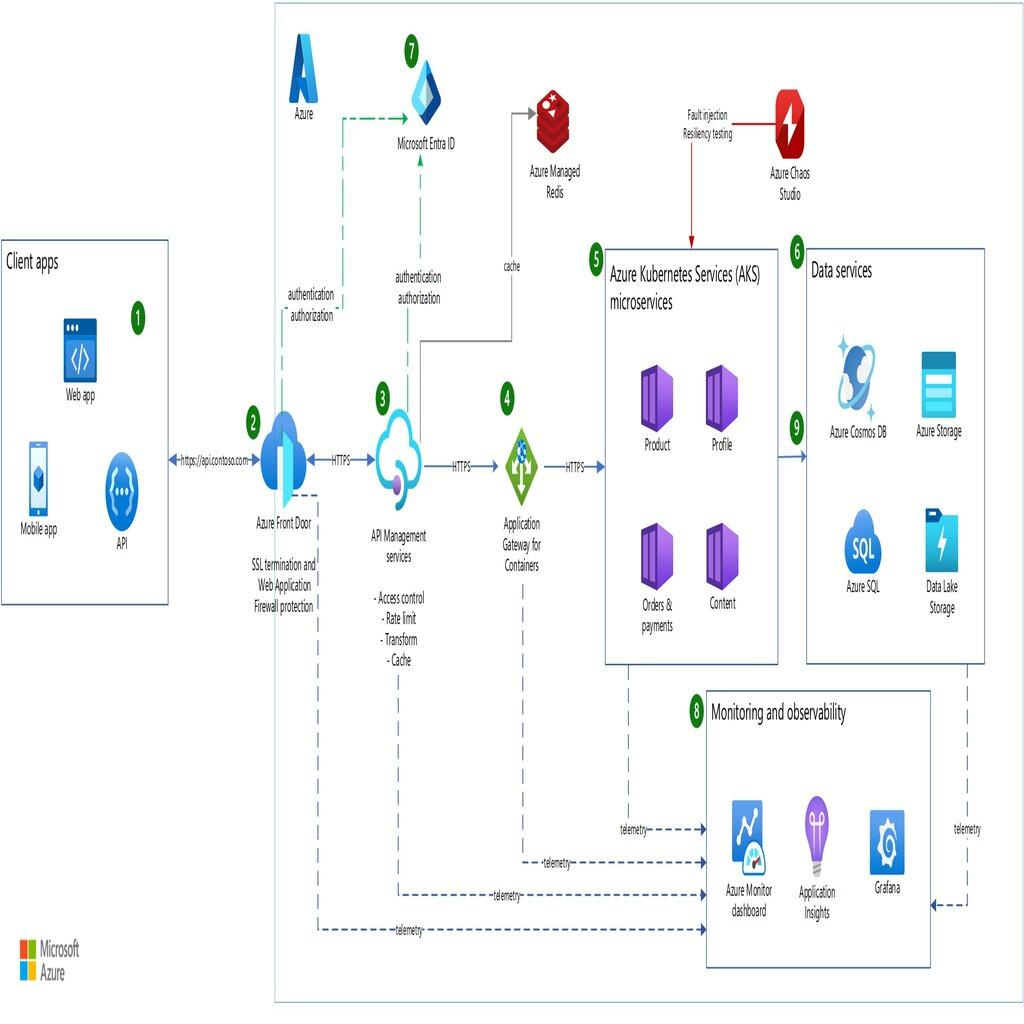actor: (100, 461, 142, 522), (58, 314, 98, 374), (24, 448, 54, 510)
api_gateway: (260, 417, 306, 501), (374, 417, 420, 501), (500, 417, 540, 501)
compute: (769, 87, 810, 159), (796, 796, 838, 863), (633, 524, 674, 592), (633, 364, 674, 431), (727, 796, 768, 863), (702, 524, 742, 592), (702, 364, 742, 431), (866, 796, 906, 863)
data_flow: (315, 553, 320, 922), (395, 553, 400, 922), (280, 128, 285, 384), (400, 888, 604, 894), (965, 676, 970, 901), (400, 919, 604, 924), (624, 646, 629, 830), (174, 454, 256, 464), (418, 154, 422, 358), (400, 858, 604, 862), (520, 646, 524, 830), (282, 118, 404, 124), (510, 169, 514, 323), (410, 340, 512, 346), (688, 134, 694, 236), (434, 454, 484, 464), (549, 454, 590, 464), (320, 454, 360, 464), (775, 454, 806, 464)
database_storage: (835, 340, 881, 408), (835, 514, 881, 582), (530, 87, 572, 159), (916, 340, 958, 408), (916, 514, 958, 582)
network_security: (400, 56, 440, 128)
trust_boundary: (273, 10, 1021, 994), (806, 244, 984, 668), (601, 244, 775, 668), (704, 689, 930, 970), (2, 238, 166, 606)
